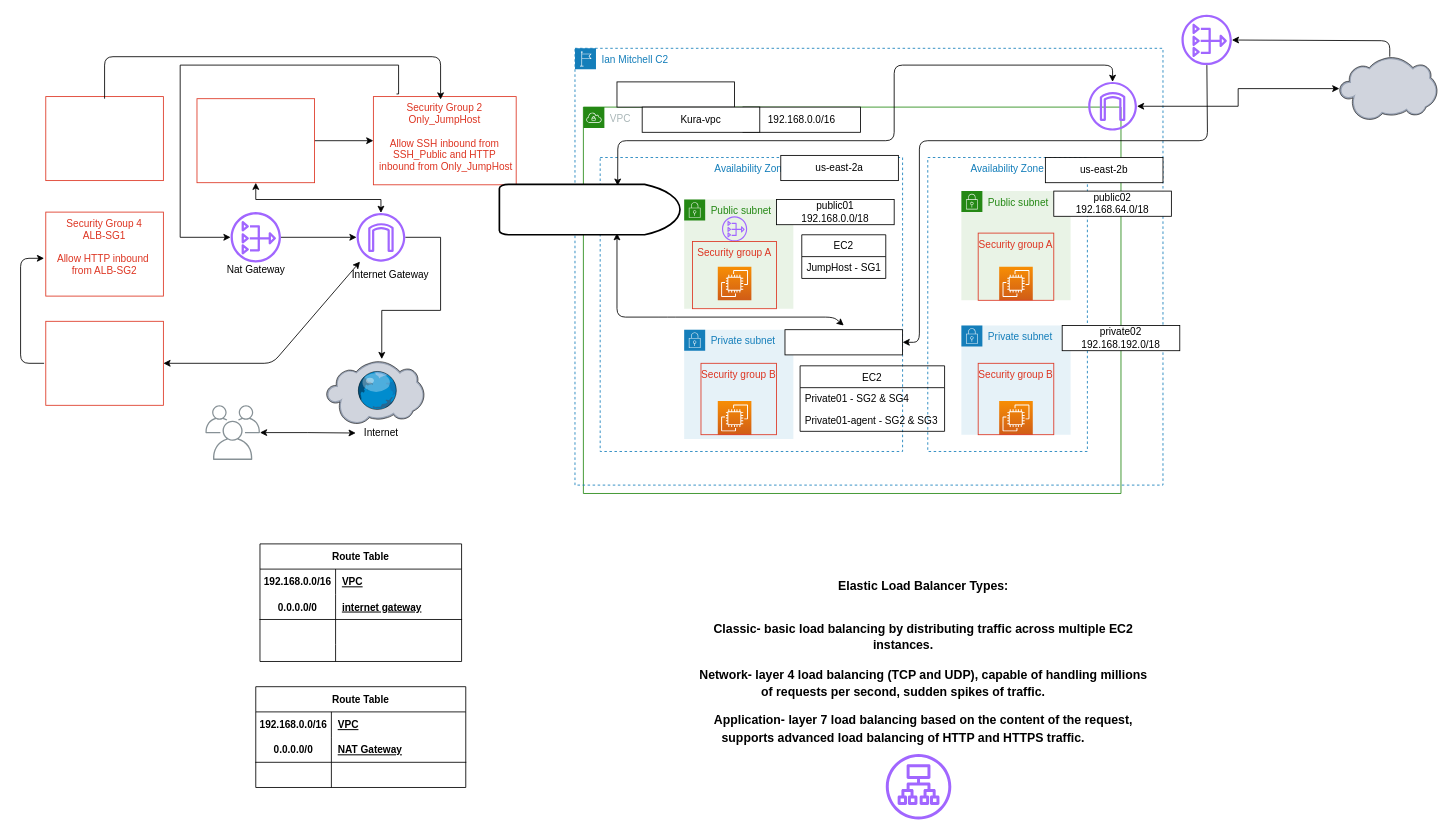
The diagram is 1452 pixels wide and 833 high, and some of its shapes have lost their labels. The shapes that lost their labels are listed below. From the top down, each one's centre as x and y in pixels, then its label:
At (675,94): "us-east-2 Ohio".
At (104,138): "Security Group 3 SSH_Private Allow SSH inbound from Only_JumpHost".
At (255,140): "Security Group 1 SSH_Public Allow Any SSH inbound and HTTP outbound to Anywhere".
At (589,209): "Load Balancer - SG5 ALB-1227156414.us-east-2.elb.amazonaws.com".
At (104,362): "Security Group 5 ALB-SG2 Allow Any HTTP inbound and outboud".
At (843,342): "private01 192.168.128.0/18".
At (232,432): "User".
